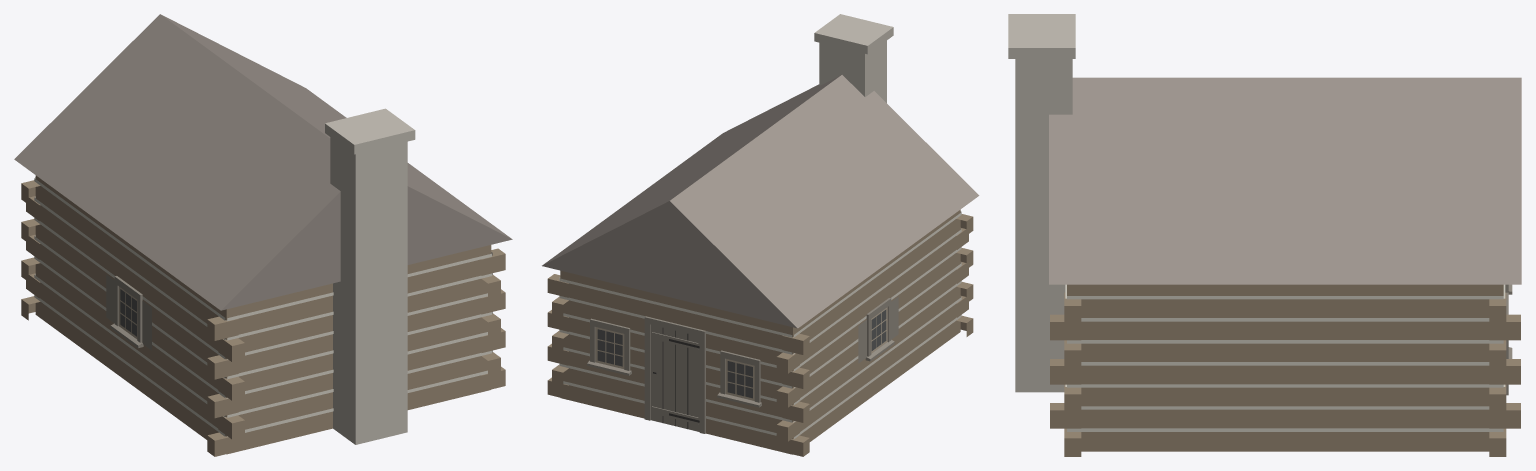
The model's file is inf_boatman_cabin_north__inferred_1835.glb.
3 views of the same model, side by side, from view 1: azimuth 30°, elevation 25°; view 2: azimuth 150°, elevation 25°; view 3: azimuth 270°, elevation 25° (orthographic). The views are drawn at different scales.
Parts seen in each view (by area): view 1: inf_boatman_cabin_north__inferred_1835; view 2: inf_boatman_cabin_north__inferred_1835; view 3: inf_boatman_cabin_north__inferred_1835.
Part boxes in pixels (box(x1,y1,x2,y2)): inf_boatman_cabin_north__inferred_1835: box(14, 14, 512, 456); inf_boatman_cabin_north__inferred_1835: box(542, 14, 979, 456); inf_boatman_cabin_north__inferred_1835: box(1008, 14, 1521, 456).
Bounding box in the file's own units: 5.38 × 5.34 × 7.17.
